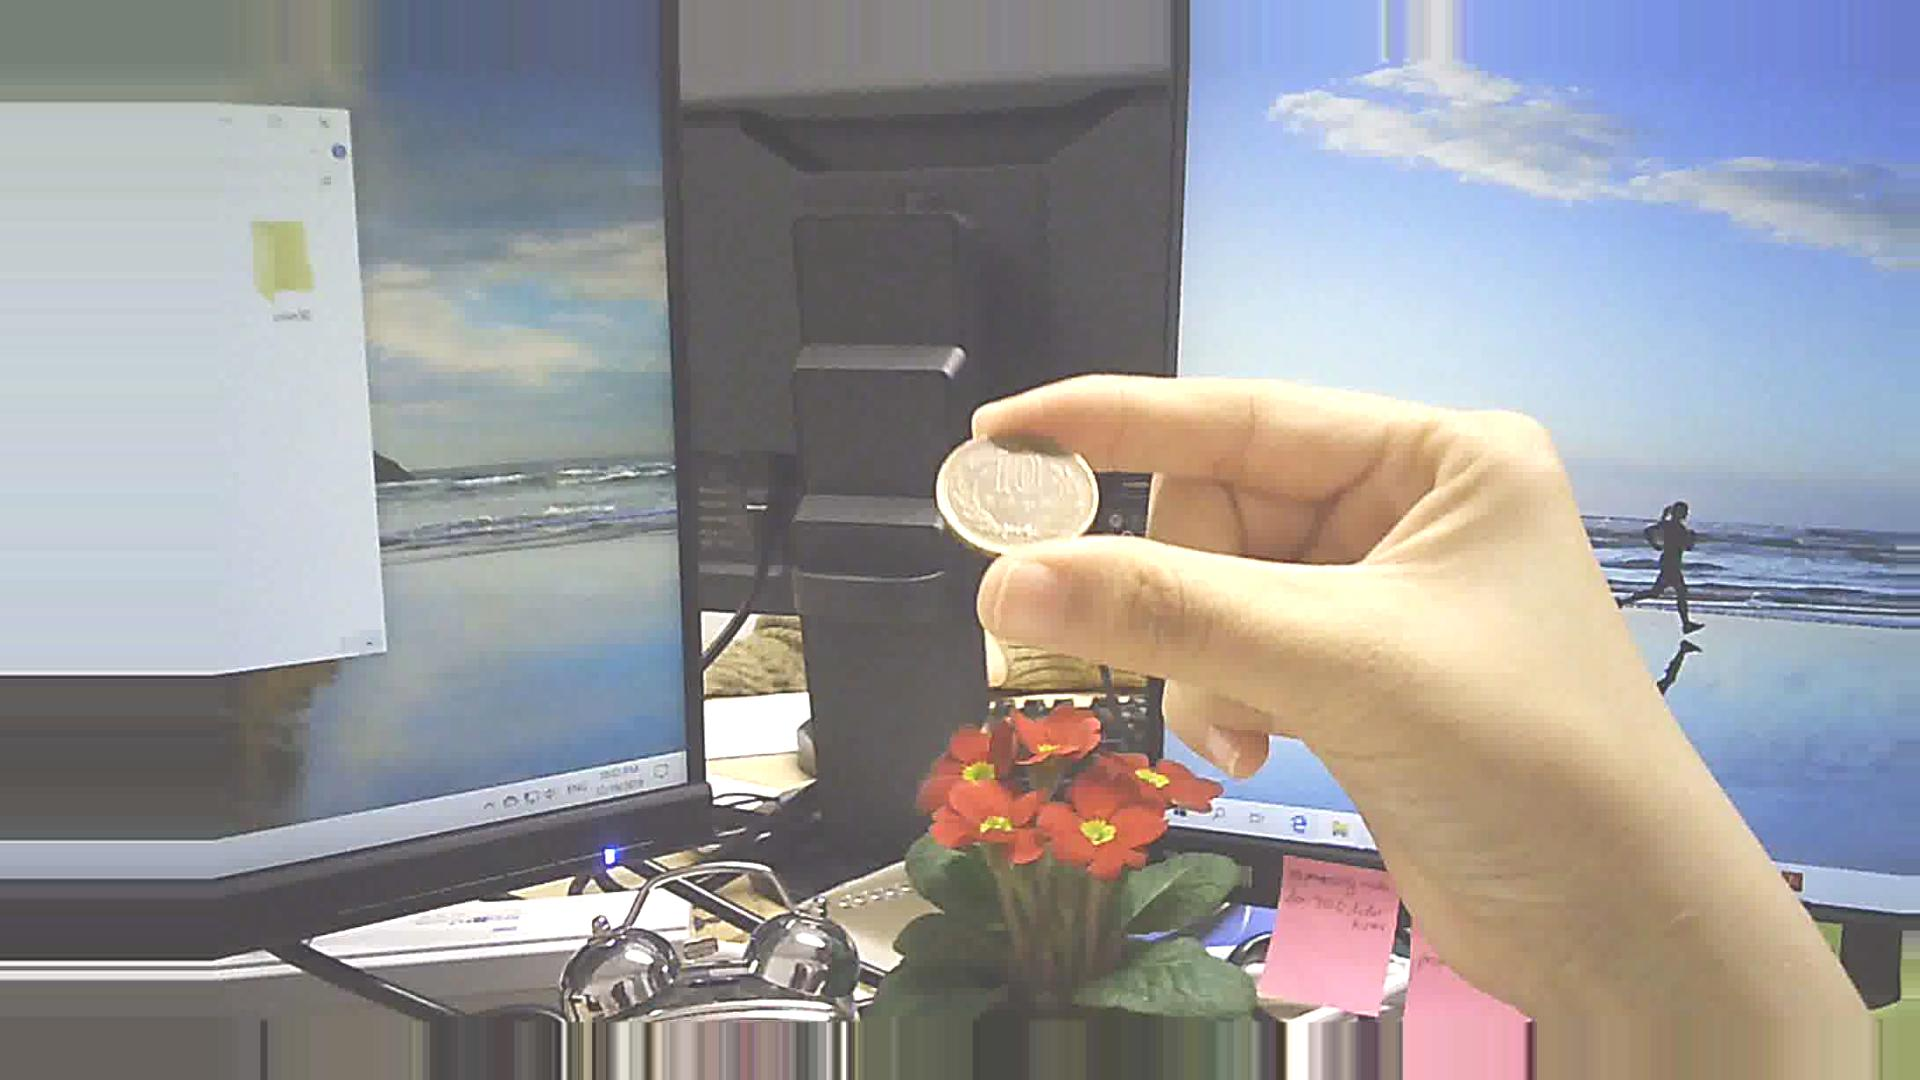10 Yen: (938, 429, 1097, 549)
